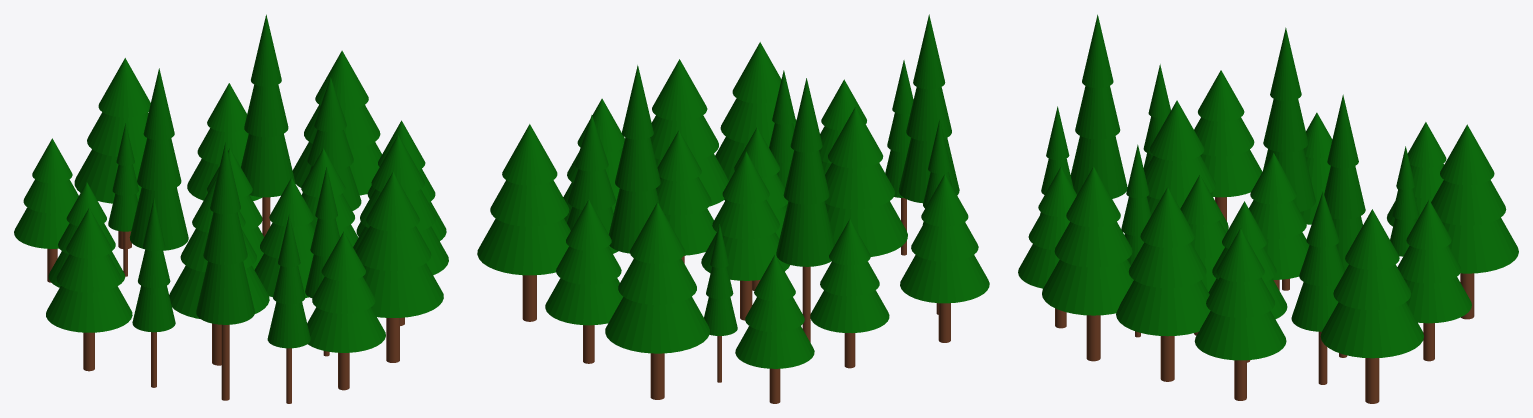
Rendered from MODEL_PineTrees.fbx.
3 renders of one model, left to right at view 1: azimuth 30°, elevation 25°; view 2: azimuth 150°, elevation 25°; view 3: azimuth 270°, elevation 25°, orthographic. The views are drawn at different scales.
Visible parts, largest first — view 1: PineTree.018, PineTree.019, PineTree.021, PineTree.017, PineTree.020, PineTree.013, PineTree.011, PineTree.010, PineTree.012, PineTree.005, PineTree.008, PineTree.016 (+10 smaller); view 2: PineTree.013, PineTree.010, PineTree.019, PineTree.005, PineTree.011, PineTree.015, PineTree, PineTree.012, PineTree.002, PineTree.020, PineTree.021, PineTree.003 (+10 smaller); view 3: PineTree.010, PineTree.003, PineTree.018, PineTree.013, PineTree.007, PineTree.015, PineTree.021, PineTree.019, PineTree.011, PineTree.001, PineTree, PineTree.005 (+10 smaller).
Boxes of the visible parts, left/top/right/bottom form: PineTree.018: left=356, top=171, right=443, bottom=362; PineTree.019: left=46, top=208, right=132, bottom=371; PineTree.021: left=196, top=142, right=254, bottom=400; PineTree.017: left=307, top=231, right=385, bottom=390; PineTree.020: left=241, top=14, right=295, bottom=236; PineTree.013: left=74, top=58, right=150, bottom=248; PineTree.011: left=129, top=68, right=188, bottom=250; PineTree.010: left=292, top=50, right=381, bottom=195; PineTree.012: left=14, top=138, right=78, bottom=282; PineTree.005: left=169, top=178, right=269, bottom=365; PineTree.008: left=132, top=198, right=175, bottom=387; PineTree.016: left=267, top=214, right=310, bottom=403; PineTree.013: left=605, top=202, right=709, bottom=399; PineTree.010: left=477, top=124, right=570, bottom=321; PineTree.019: left=900, top=174, right=989, bottom=342; PineTree.005: left=825, top=107, right=907, bottom=256; PineTree.011: left=776, top=78, right=834, bottom=342; PineTree.015: left=545, top=199, right=623, bottom=363; PineTree: left=701, top=151, right=789, bottom=320; PineTree.012: left=735, top=255, right=814, bottom=403; PineTree.002: left=810, top=219, right=889, bottom=368; PineTree.020: left=609, top=65, right=660, bottom=258; PineTree.021: left=898, top=14, right=959, bottom=203; PineTree.003: left=650, top=59, right=728, bottom=206; PineTree.010: left=1320, top=209, right=1423, bottom=403; PineTree.003: left=1116, top=187, right=1210, bottom=381; PineTree.018: left=1042, top=166, right=1133, bottom=361; PineTree.013: left=1431, top=124, right=1518, bottom=319; PineTree.007: left=1194, top=228, right=1286, bottom=400; PineTree.015: left=1397, top=199, right=1471, bottom=361; PineTree.021: left=1070, top=14, right=1127, bottom=198; PineTree.019: left=1194, top=70, right=1262, bottom=221; PineTree.011: left=1263, top=27, right=1315, bottom=290; PineTree.001: left=1291, top=191, right=1344, bottom=384; PineTree: left=1249, top=153, right=1309, bottom=290; PineTree.005: left=1144, top=100, right=1228, bottom=232.
Size of the model in its own units: 160 by 96.41 by 167.
